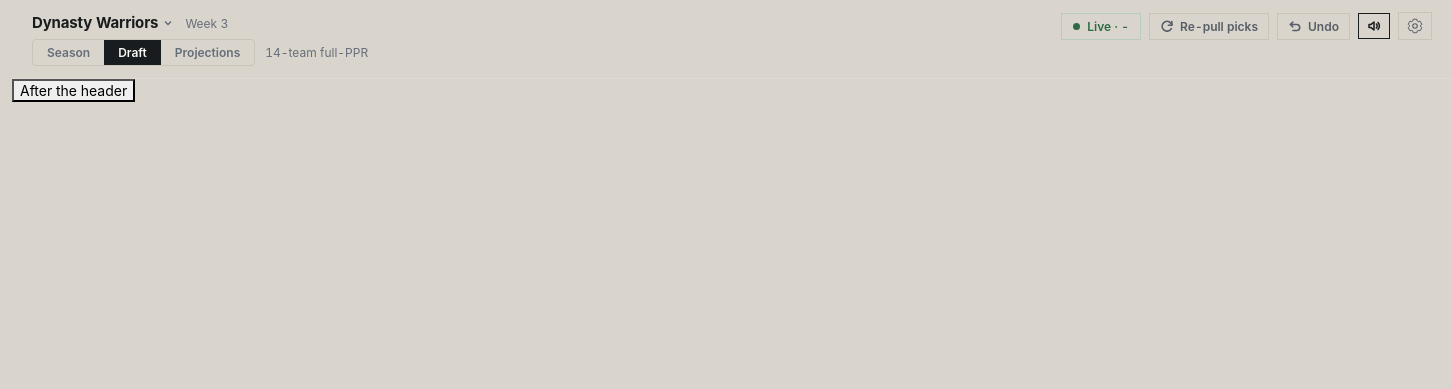
Test: the settings menu › gives focus back to the gear when Escape closes it
Click the button named "Settings".
click(1415, 26)  # box x1=1398 y1=12 x2=1432 y2=40
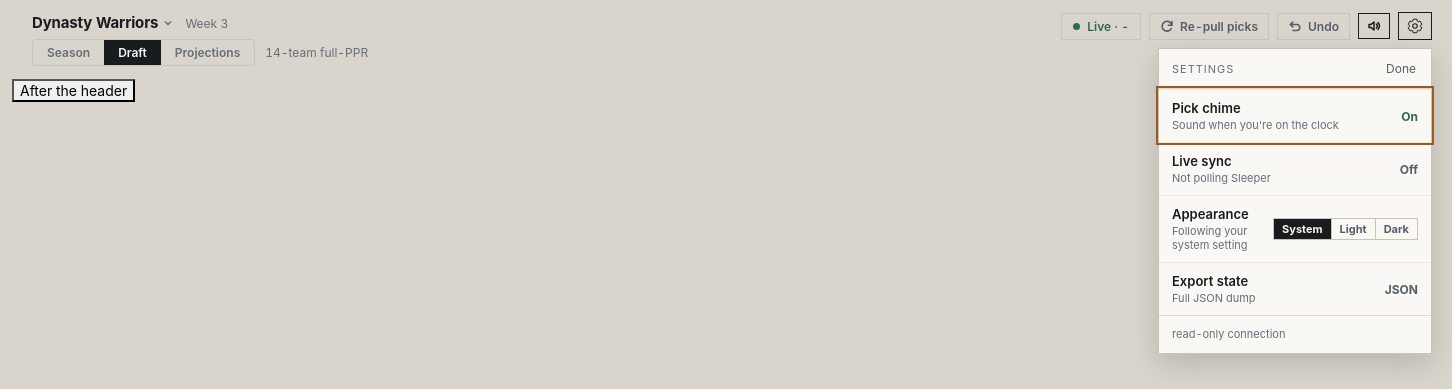
Press Escape
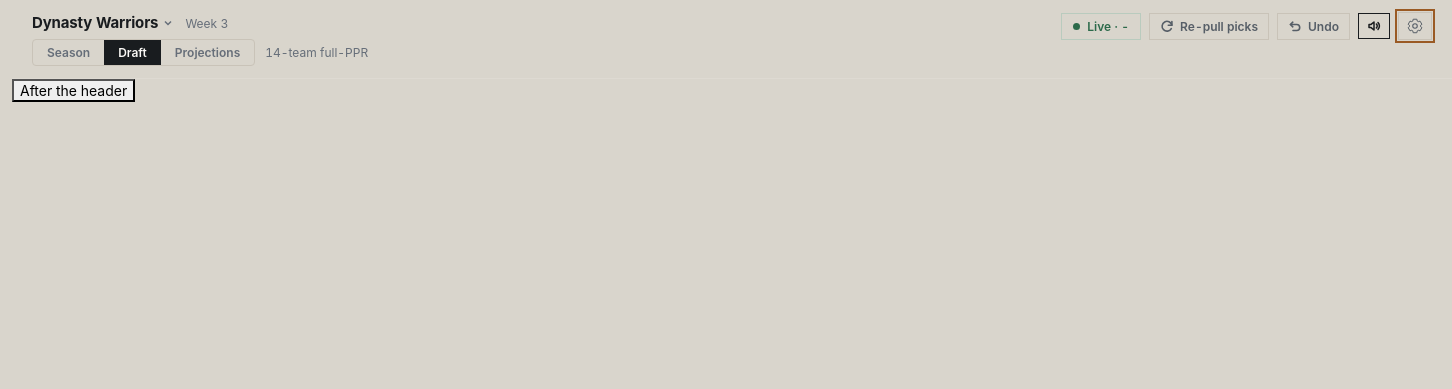
Expected: the menu is gone
